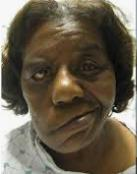strokeEyeSevere: (26, 44, 111, 82)
strokeMouthSevere: (45, 104, 104, 136)
